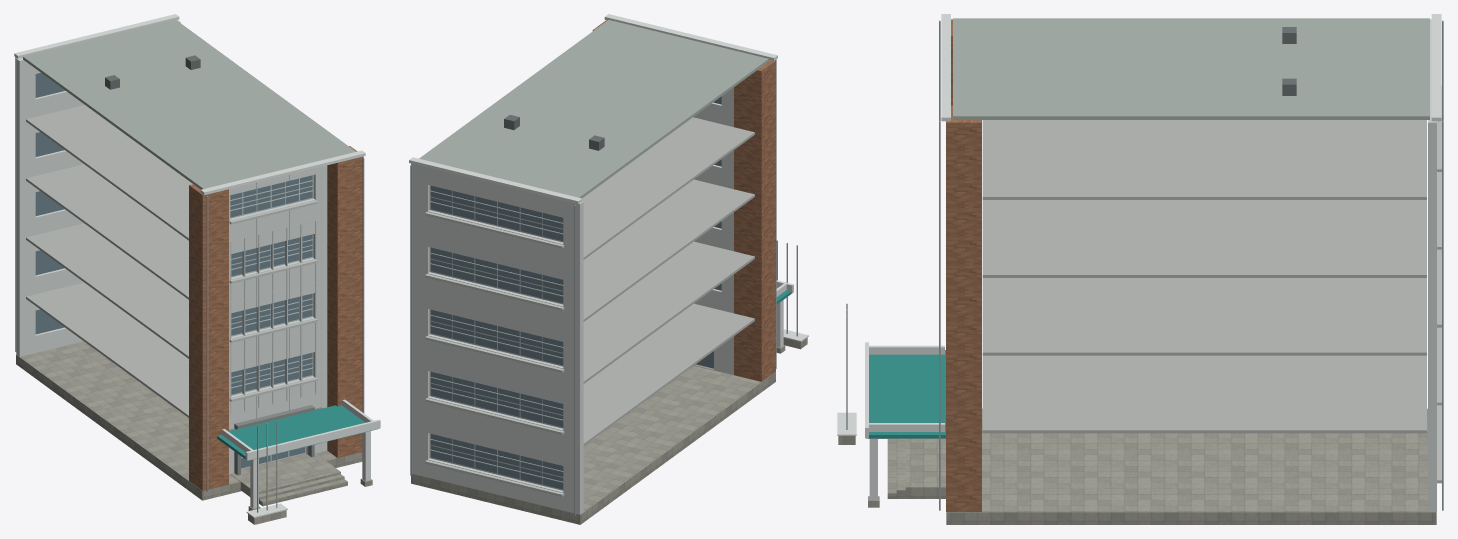
3 views of the same model, side by side, from view 1: azimuth 30°, elevation 25°; view 2: azimuth 150°, elevation 25°; view 3: azimuth 270°, elevation 25° (orthographic). The views are drawn at different scales.
Visible parts, largest first — view 1: entrance-core__slab, entrance-core__roof, entrance-core__panel, entrance-core__brick, entrance-core__stone, entrance-core__glass, entrance-core__frame, entrance-core__cap, entrance-core__teal, entrance-core__steel, entrance-core__threshold-front, entrance-core__stair-front (+3 smaller); view 2: entrance-core__panel, entrance-core__slab, entrance-core__roof, entrance-core__glass, entrance-core__stone, entrance-core__brick, entrance-core__frame, entrance-core__sill, entrance-core__cap, entrance-core__steel; view 3: entrance-core__slab, entrance-core__roof, entrance-core__stone, entrance-core__brick, entrance-core__teal, entrance-core__cap, entrance-core__panel, entrance-core__steel, entrance-core__threshold-front, entrance-core__sill, entrance-core__stair-front.
Part boxes in pixels (<box>): entrance-core__slab: <box>26,105,192,417</box>; entrance-core__roof: <box>23,19,355,189</box>; entrance-core__panel: <box>16,20,327,474</box>; entrance-core__brick: <box>189,146,363,490</box>; entrance-core__stone: <box>16,341,372,524</box>; entrance-core__glass: <box>35,73,312,468</box>; entrance-core__frame: <box>230,175,316,469</box>; entrance-core__cap: <box>14,14,380,517</box>; entrance-core__teal: <box>217,405,378,460</box>; entrance-core__steel: <box>15,57,364,512</box>; entrance-core__threshold-front: <box>230,453,337,496</box>; entrance-core__stair-front: <box>259,469,347,506</box>; entrance-core__panel: <box>411,87,733,514</box>; entrance-core__slab: <box>582,117,754,445</box>; entrance-core__roof: <box>419,20,768,198</box>; entrance-core__glass: <box>431,96,721,489</box>; entrance-core__stone: <box>411,337,807,524</box>; entrance-core__brick: <box>592,20,775,381</box>; entrance-core__frame: <box>429,185,563,490</box>; entrance-core__sill: <box>425,211,564,496</box>; entrance-core__cap: <box>409,14,808,347</box>; entrance-core__steel: <box>410,59,797,515</box>; entrance-core__slab: <box>982,120,1426,433</box>; entrance-core__roof: <box>953,18,1429,119</box>; entrance-core__stone: <box>838,408,1436,524</box>; entrance-core__brick: <box>946,19,981,511</box>; entrance-core__teal: <box>866,350,945,438</box>; entrance-core__cap: <box>837,14,1441,500</box>; entrance-core__panel: <box>1428,19,1436,511</box>; entrance-core__steel: <box>846,20,1443,510</box>; entrance-core__threshold-front: <box>914,433,982,498</box>; entrance-core__sill: <box>1437,85,1441,483</box>; entrance-core__stair-front: <box>887,439,914,498</box>.
Bounding box in the file's own units: 11 × 20.65 × 27.21.
Materials: 14 (2 with a texture image).
